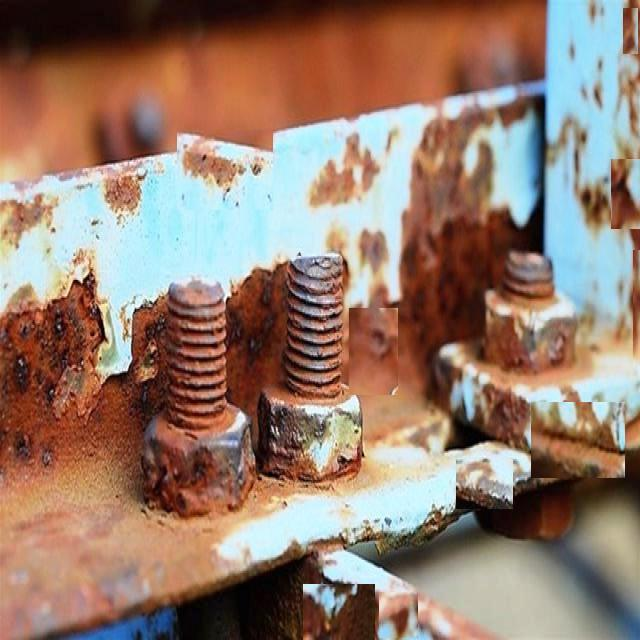Corrosion: (1, 458, 259, 640), (0, 270, 165, 501), (142, 281, 256, 518), (400, 110, 497, 362), (485, 251, 577, 372), (227, 262, 286, 436), (284, 265, 343, 400), (532, 406, 627, 478), (257, 389, 327, 482), (472, 202, 543, 288), (361, 396, 452, 455), (257, 448, 363, 490), (349, 309, 399, 396), (309, 148, 381, 206), (182, 137, 245, 190), (102, 162, 144, 218), (0, 195, 54, 234), (290, 254, 344, 280)
